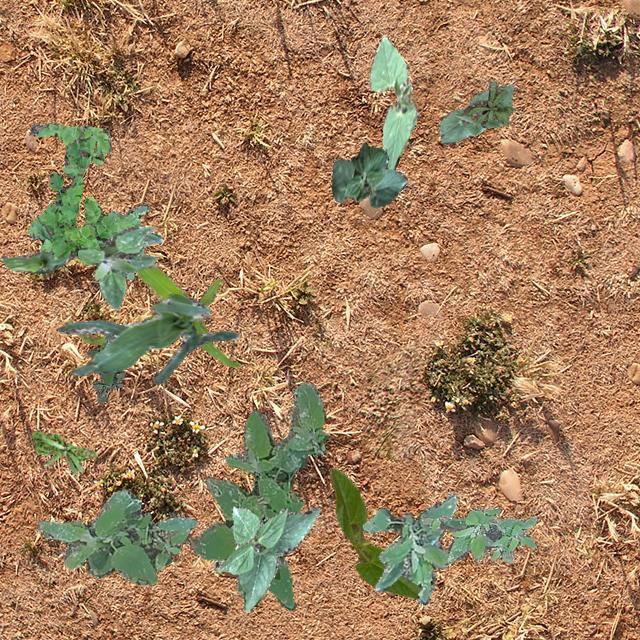crop: (66, 264, 240, 366), (54, 292, 238, 384), (328, 467, 419, 598), (212, 506, 318, 612), (368, 36, 417, 170), (331, 142, 406, 206), (438, 84, 512, 144), (0, 248, 74, 274)
weed: (188, 382, 328, 608), (36, 488, 196, 584), (27, 122, 134, 264), (362, 492, 456, 604), (76, 224, 156, 310), (419, 506, 536, 562), (106, 202, 162, 278), (30, 430, 96, 474), (85, 332, 124, 402), (462, 80, 514, 124)
